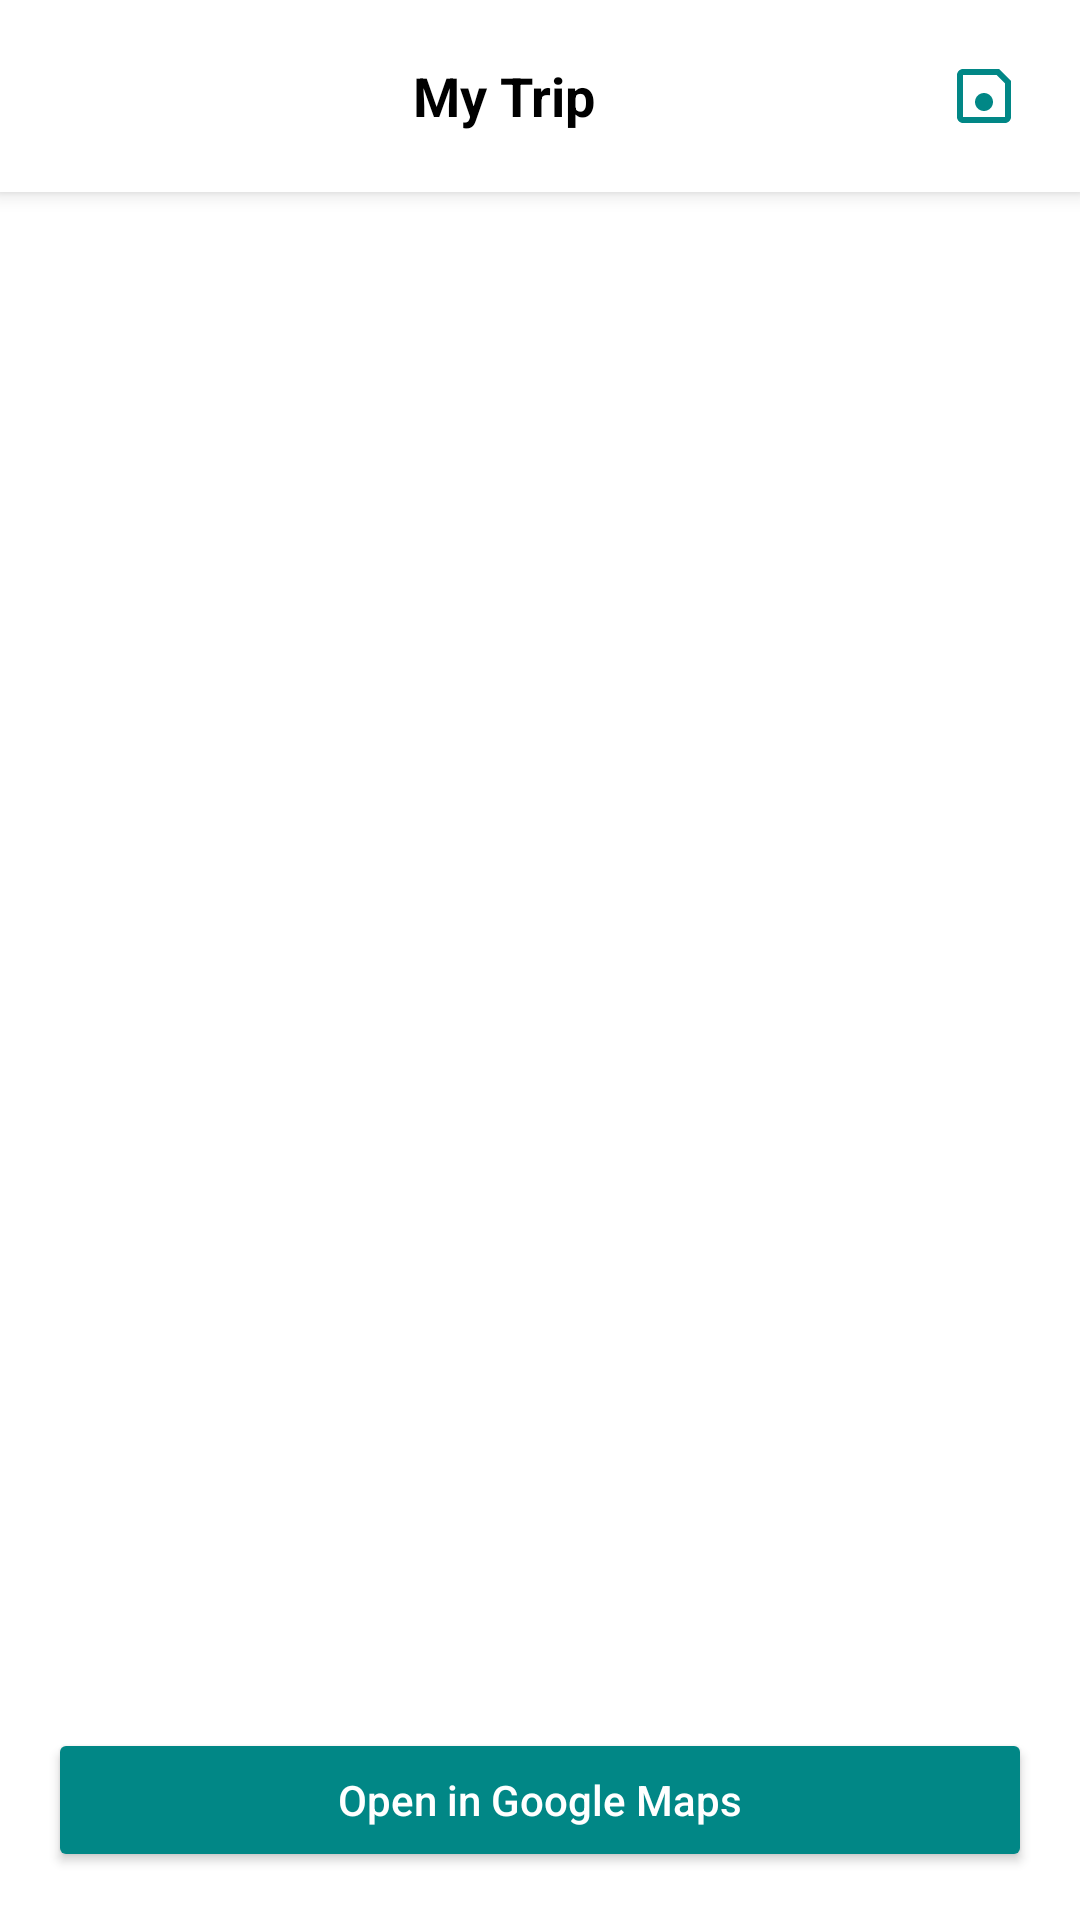

Screen size 1080x1920. Icon name, then its center in pixels as [x,y]:
Save: [984,96]
